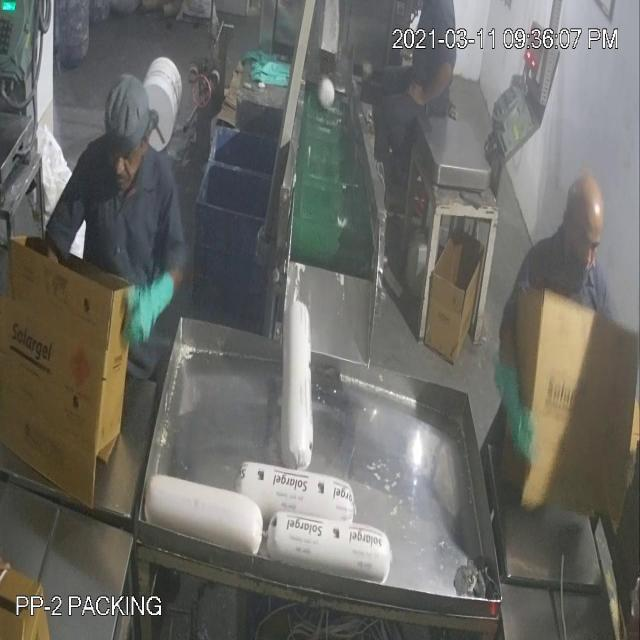Gloves: (53, 64, 516, 401)
